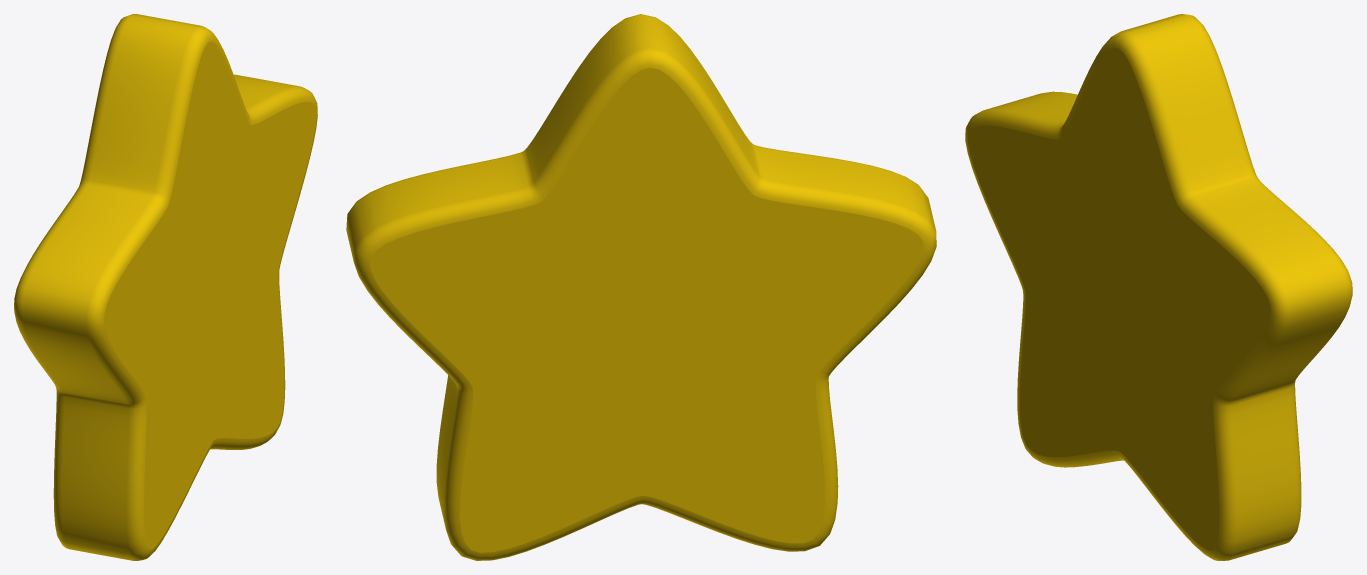
File: maxstar.fbx
The picture shows the model from 3 angles, left to right: view 1: azimuth 30°, elevation 25°; view 2: azimuth 150°, elevation 25°; view 3: azimuth 270°, elevation 25°; orthographic projection. The views are drawn at different scales.
Parts seen in each view (by area): view 1: Circle; view 2: Circle; view 3: Circle.
Part boxes in pixels (x1,y1,x2,y2): Circle: (14,14,317,560); Circle: (346,14,936,560); Circle: (965,14,1352,560).
Bounding box in the file's own units: 180 × 193 × 142.
